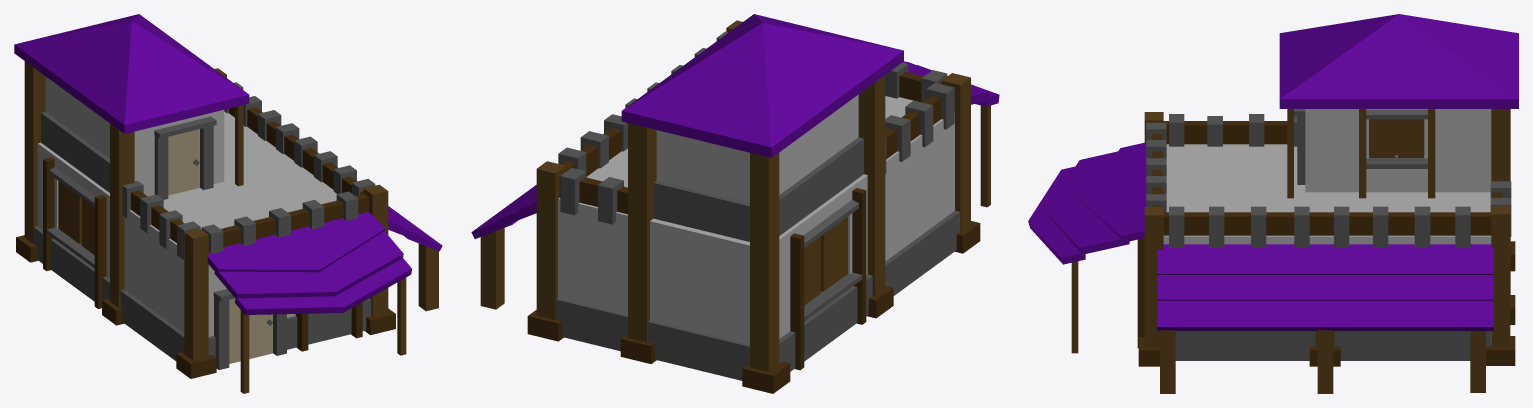
The model's file is Mesh_Royal_Hos_Flat_roofed.fbx.
The picture shows the model from 3 angles, left to right: view 1: azimuth 30°, elevation 25°; view 2: azimuth 150°, elevation 25°; view 3: azimuth 270°, elevation 25°; orthographic projection. The views are drawn at different scales.
Visible parts, largest first — view 1: Royal_Hos_Flat_roofed; view 2: Royal_Hos_Flat_roofed; view 3: Royal_Hos_Flat_roofed.
Boxes of the visible parts, bbox=[...] form: Royal_Hos_Flat_roofed: bbox=[14, 14, 442, 393]; Royal_Hos_Flat_roofed: bbox=[471, 14, 999, 393]; Royal_Hos_Flat_roofed: bbox=[1028, 14, 1518, 393].
Bounding box in the file's own units: 827 × 769 × 1238.
